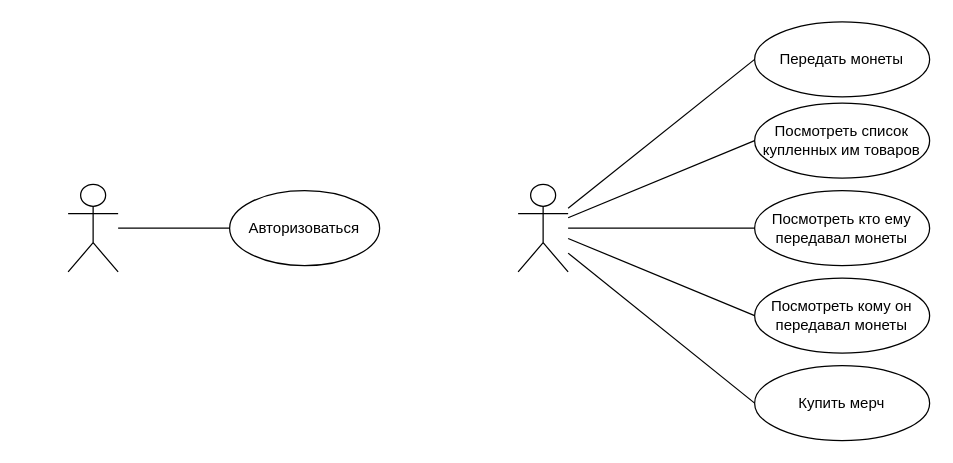
This 953x463 diagram has some shape labels left out. The centre of each missing label's shape, as x and y in pixels:
"Гость (Неавторизованный)" goes at (x=92, y=227).
"Пользователь" goes at (x=542, y=227).
